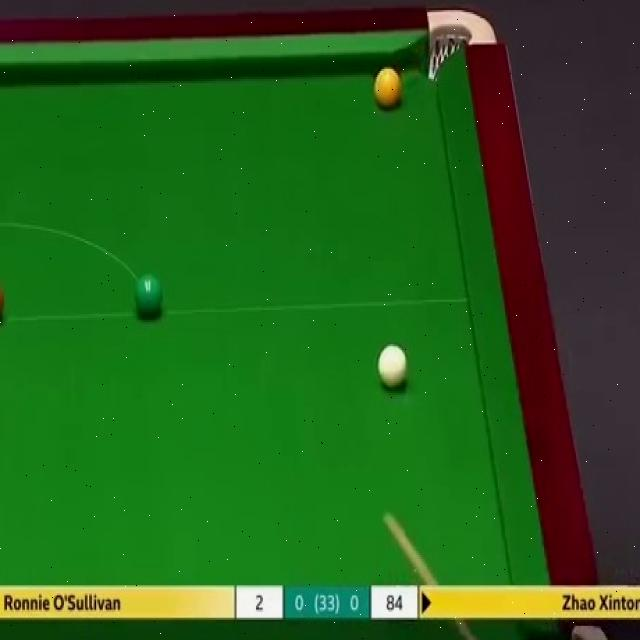green-ball: (135, 269, 163, 315)
white-ball: (377, 342, 408, 391)
yellow-ball: (373, 65, 402, 110)
